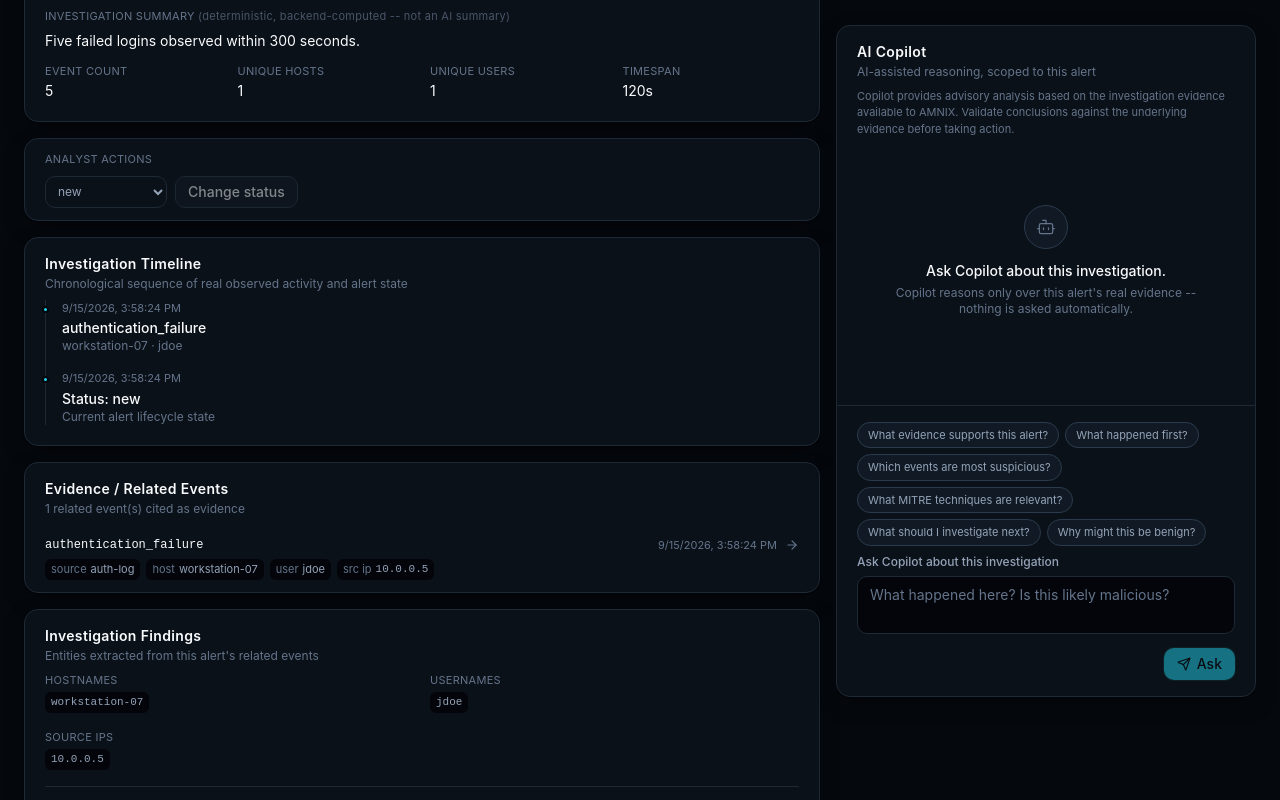
Test case: InvestigationWorkspacePage › asks the real POST /alerts/{id}/copilot for the exact alert and renders the real assessment
(page scrolled)
Type "What happened here?" into the text box labelled "Ask Copilot about this investigation" at (1046, 604), box [857,575,1235,633]
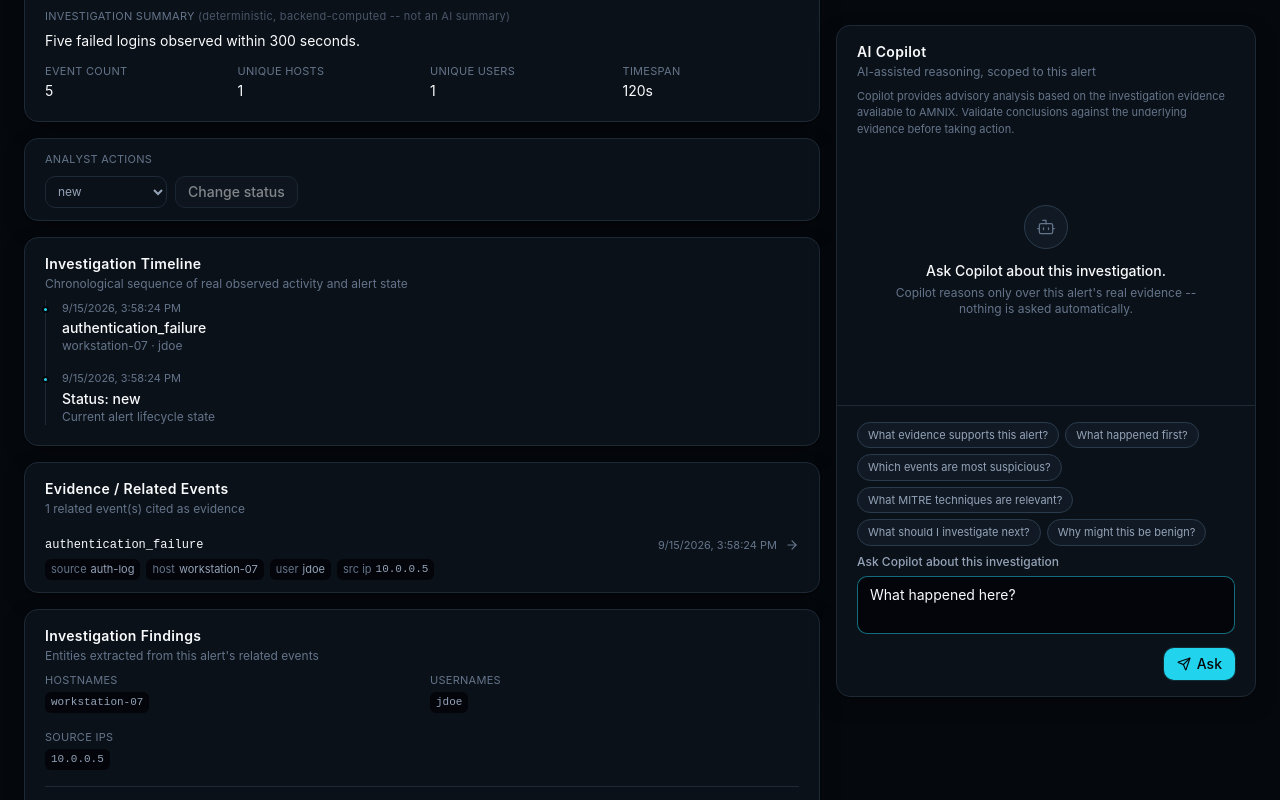
Click the button "Ask" at (1199, 663), box [1164,647,1235,679]
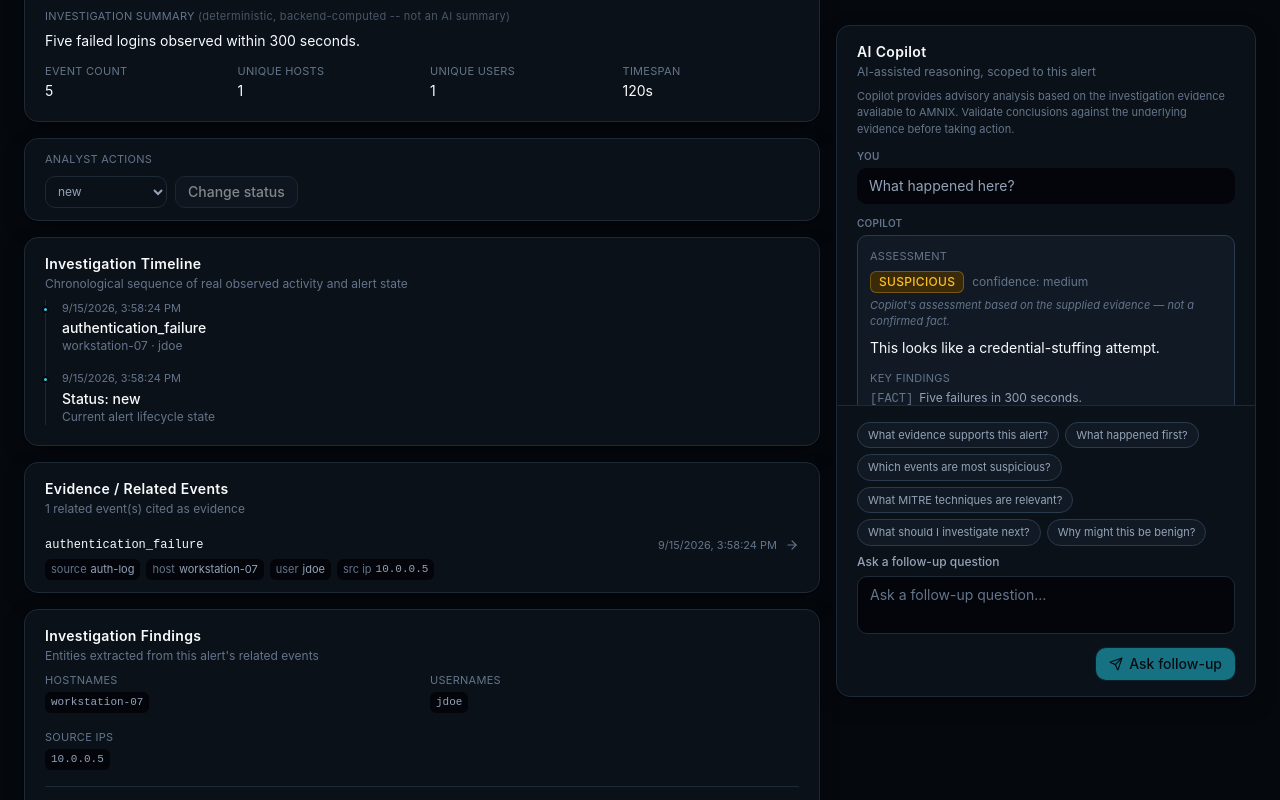
Result: the text "This looks like a credential-stuffing attempt." is shown at [870,338,1160,355]
